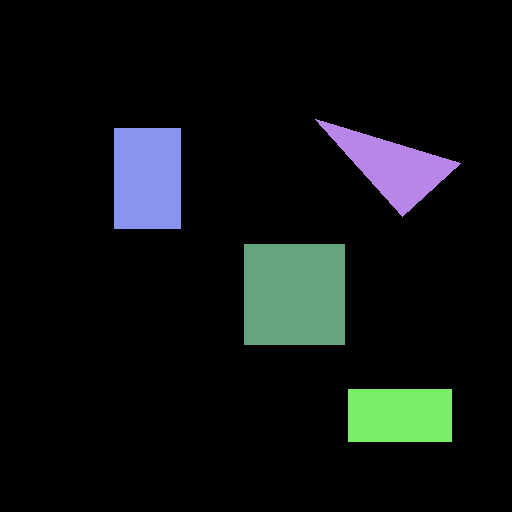rectangle: (114, 128, 180, 228), (348, 389, 451, 441)
square: (244, 244, 344, 344)
triangle: (315, 119, 460, 216)
